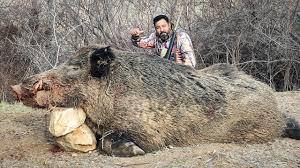person: (129, 14, 197, 67)
wildboar: (8, 40, 300, 157)
